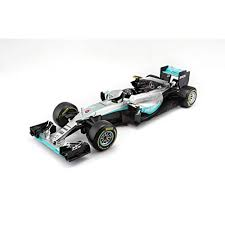FormulaOneCar: (27, 61, 200, 164)
